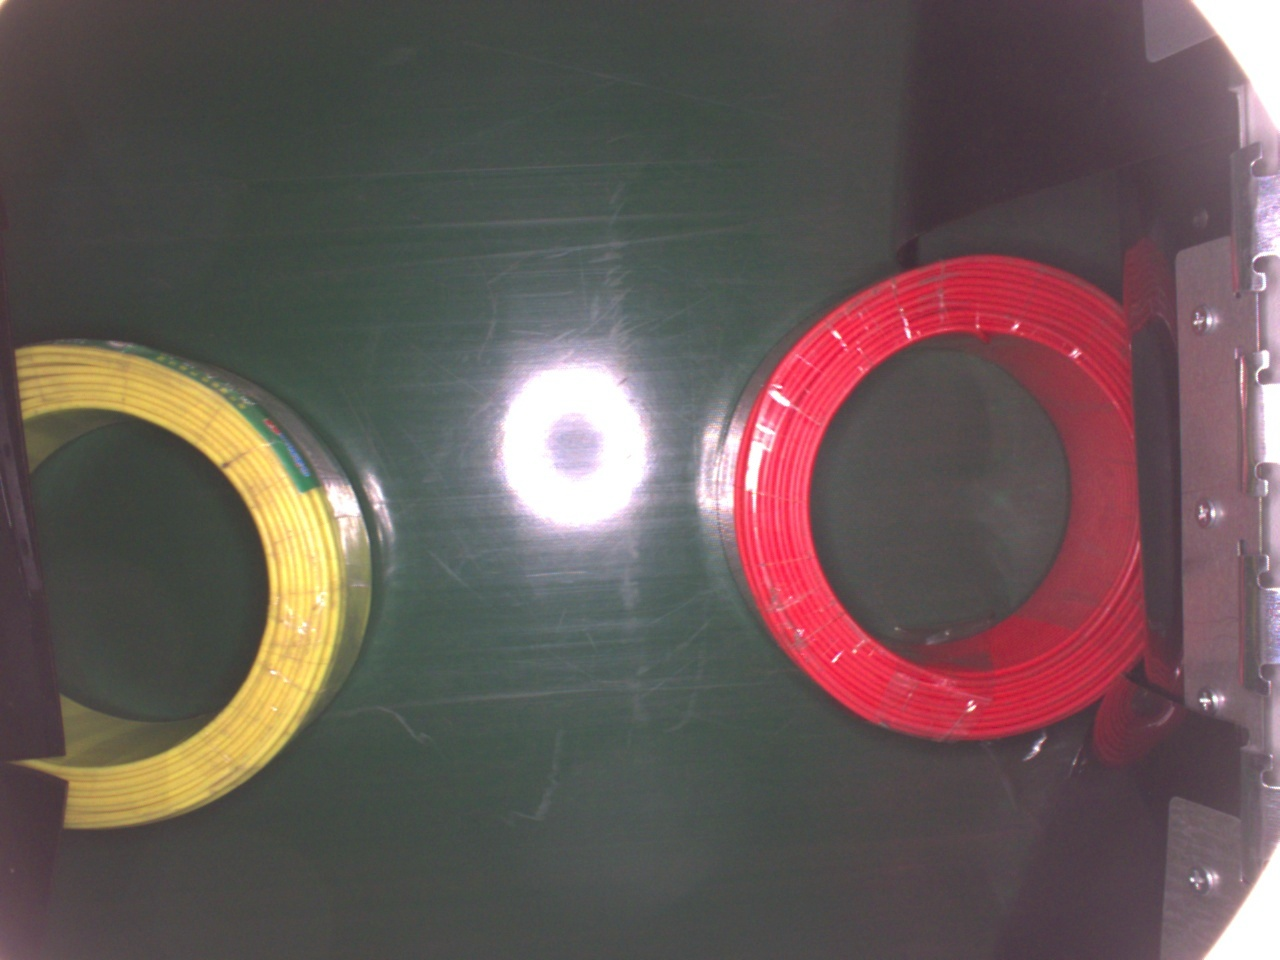red: (715, 252, 1148, 741)
yellow: (0, 329, 368, 827)
